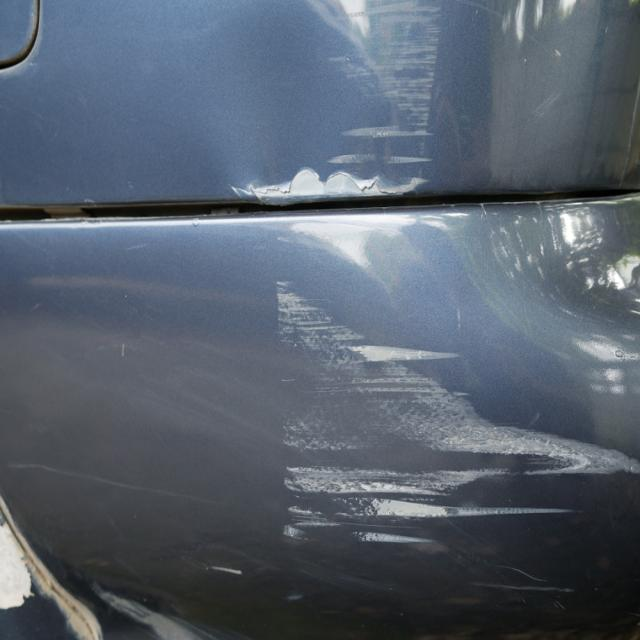Cabossage: (211, 73, 430, 278), (457, 202, 640, 343)
Rayure: (274, 262, 640, 615), (200, 544, 256, 590)
